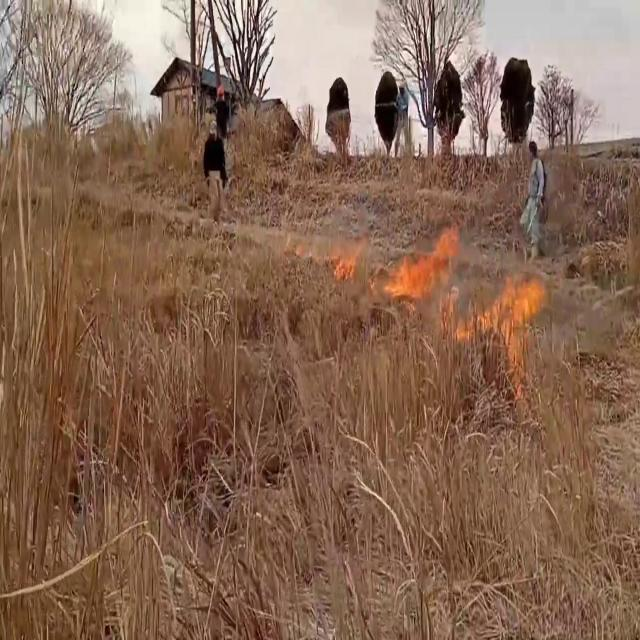Fire: (479, 262, 552, 379), (386, 225, 456, 311), (326, 224, 370, 296)
